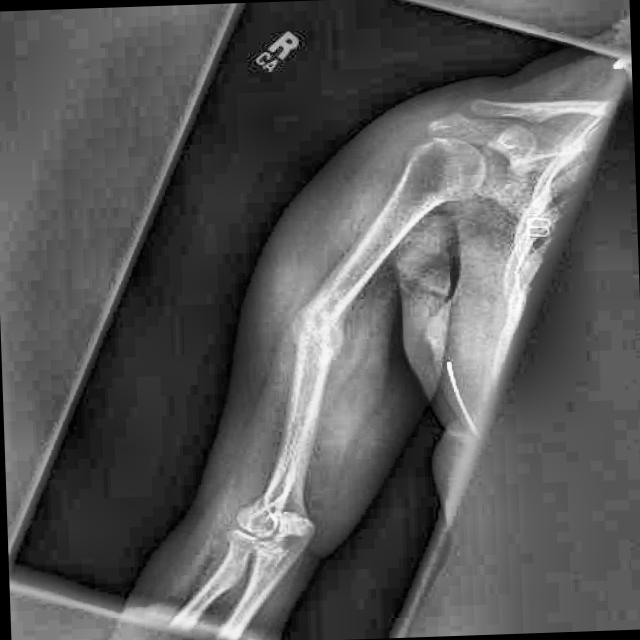humerus: (260, 255, 389, 421)
